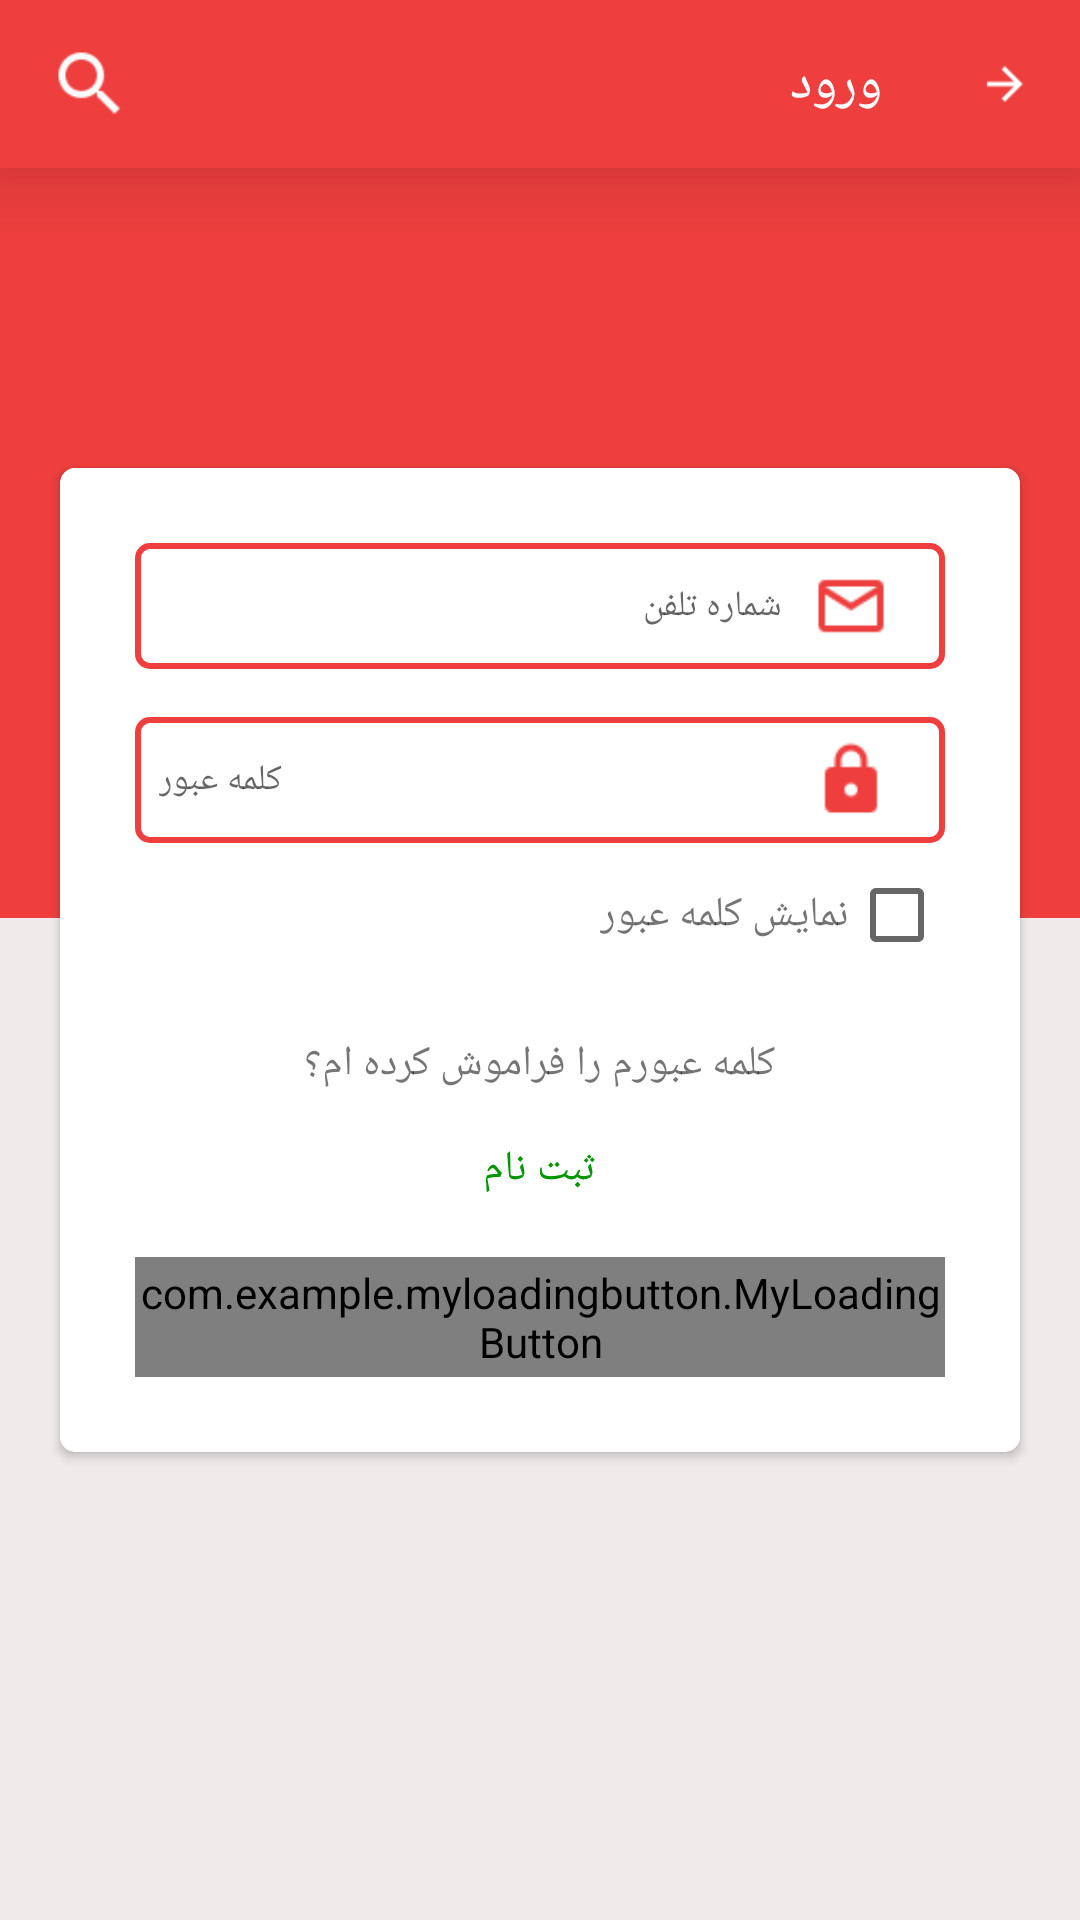

Where icons sit on this 1080 x 1920 app screen, as (x1, y1, x2, y2):
email: (818, 579, 884, 633)
lock: (824, 743, 878, 813)
search: (58, 52, 120, 114)
